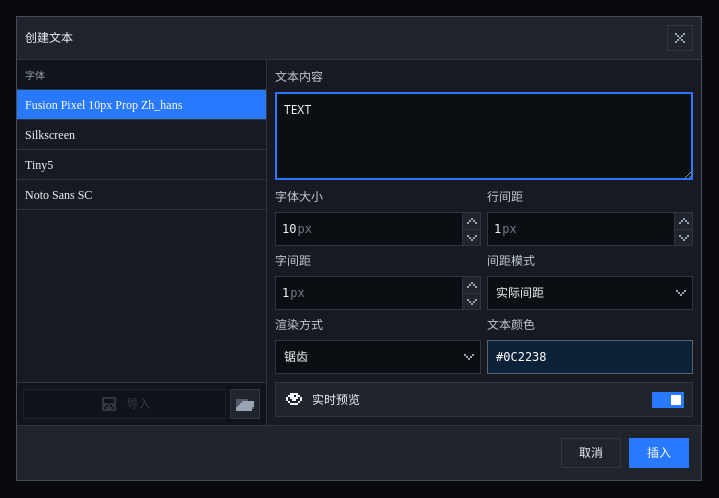
Test: TextToolDialog › shows language and font details when hovering a built-in font title
Hover over the option "Tiny5".
mouse_move(142, 165)  # box [17,150,266,180]
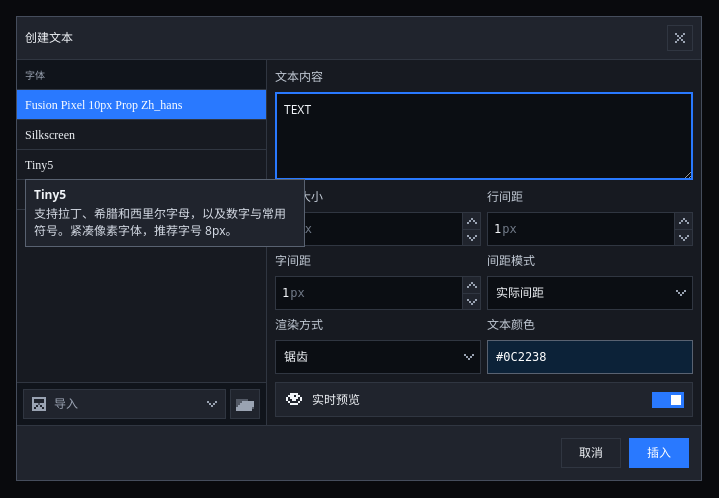
expect the tooltip shows "拉丁、希腊和西里尔字母": met, box [34,205,286,239]
expect the tooltip shows "8px": met, box [34,205,286,239]
